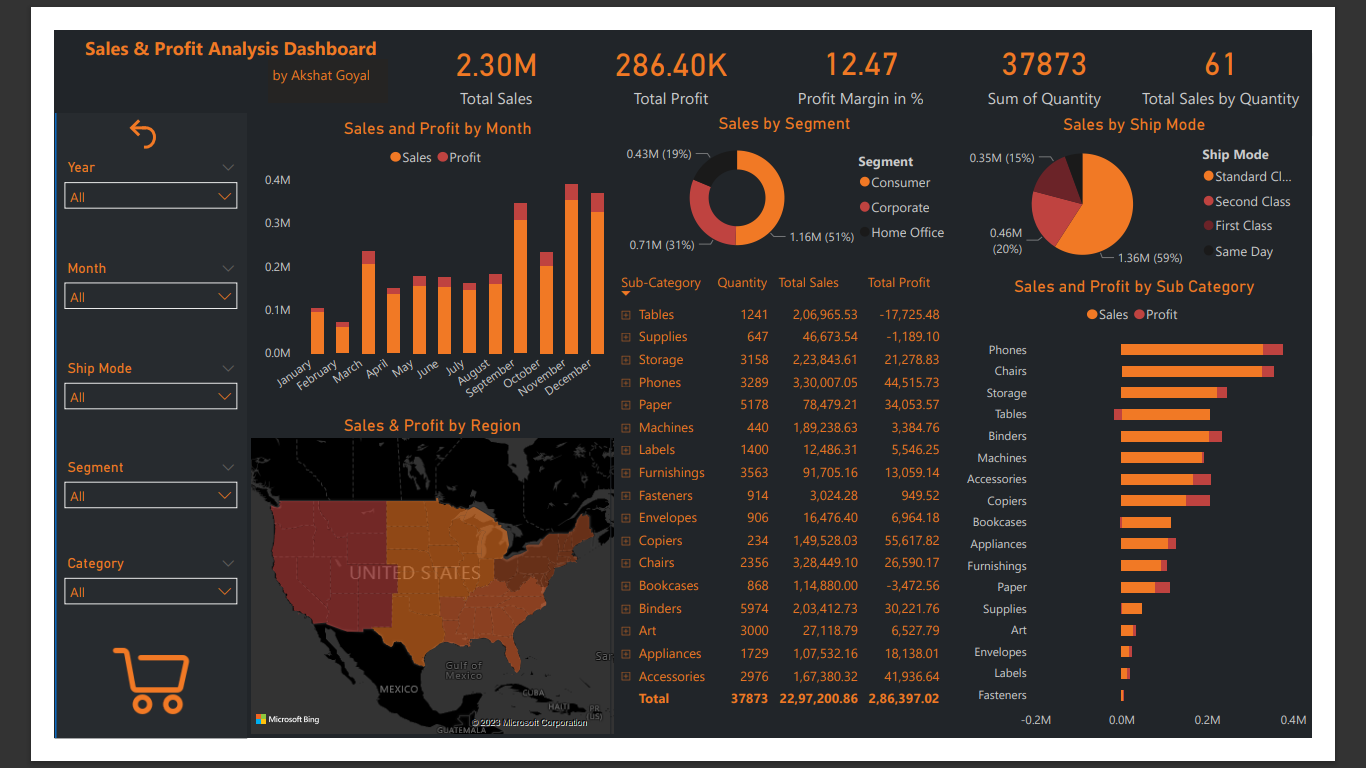

The page's visual inventory and layout, read from the dashboard file:
{"tool":"powerbi","page":{"name":"Akshat - Sales & Profit Analysis Dashboard","canvas":[1280,720],"ordinal":0},"visuals":[{"type":"shape","box":[0,0,196,720],"z":0},{"type":"slicer","fields":{"Values":["Orders (2).Order Date.Variation.Date Hierarchy.Year"]},"box":[0,125.9,196,70.9],"z":1000},{"type":"slicer","fields":{"Values":["Orders (2).Order Date.Variation.Date Hierarchy.Month"]},"box":[0,227.9,196,70],"z":2000},{"type":"slicer","fields":{"Values":["Orders (2).Ship Mode"]},"box":[0,330.7,196,70.9],"z":3000},{"type":"slicer","fields":{"Values":["Orders (2).Segment"]},"box":[0,430.9,196,70.9],"z":4000},{"type":"slicer","fields":{"Values":["Orders (2).Category"]},"box":[0,528.5,196,70.9],"z":5000},{"type":"columnChart","title":"Sales and Profit by Month","fields":{"Y":["Orders (2).Sales","Orders (2).Profit"],"Category":["Orders (2).Order Date.Variation.Date Hierarchy.Month"]},"box":[204.8,88.7,368.9,306.8],"z":6000},{"type":"textbox","box":[0,0,359.1,84.2],"z":7000},{"type":"card","fields":{"Values":["Orders (2).Sales"]},"box":[359.1,0,181.8,85.1],"z":8000},{"type":"card","fields":{"Values":["Orders (2).Profit"]},"box":[534.6,0,186.3,85.1],"z":9000},{"type":"card","fields":{"Values":["Orders (2).Profit%"]},"box":[720.9,0,197.7,84.2],"z":10000},{"type":"card","fields":{"Values":["Orders (2).Quantity"]},"box":[919.5,0,174.7,84.2],"z":11000},{"type":"card","fields":{"Values":["Orders (2).Total Sales by Quantity"]},"box":[1094.3,0,185.4,84.2],"z":12000},{"type":"filledMap","title":"Sales & Profit by Region","fields":{"Category":["Orders (2).State"],"Series":["Orders (2).Region"]},"box":[196.1,391.3,377.9,328.7],"z":13000},{"type":"pivotTable","title":"Product Details","fields":{"Rows":["Orders (2).Sub-Category","Orders (2).Product Name"],"Values":["Orders (2).Quantity","Orders (2).Sales","Orders (2).Profit"]},"box":[564.8,238.5,353.8,481.5],"z":14000},{"type":"donutChart","title":"Sales by Segment","fields":{"Y":["Orders (2).Sales"],"Category":["Orders (2).Segment"]},"box":[565.1,84.2,354.6,154],"z":15000},{"type":"pieChart","title":"Sales by Ship Mode","fields":{"Y":["Orders (2).Sales"],"Category":["Orders (2).Ship Mode"]},"box":[918.6,85.1,360.9,164],"z":16000},{"type":"barChart","title":"Sales and Profit by Sub Category","fields":{"Y":["Orders (2).Sales","Orders (2).Profit"],"Category":["Orders (2).Sub-Category"]},"box":[919.1,249.2,360.9,470],"z":17000},{"type":"textbox","box":[217.2,30.1,122.4,44.3],"z":18000},{"type":"actionButton","box":[0,85.1,180,39.9],"z":19000},{"type":"image","box":[0,613.6,196,95.8],"z":20001}]}

Visuals, with their boxes in screenshot pixels (x1, y1, x2, y2), scaled from the page's 1280x720 canvas onto the 1366x768 screenshot:
shape: bbox=(0, 0, 209, 767)
slicer - Orders (2).Order Date.Variation.Date Hierarchy.Year: bbox=(0, 134, 209, 210)
slicer - Orders (2).Order Date.Variation.Date Hierarchy.Month: bbox=(0, 243, 209, 318)
slicer - Orders (2).Ship Mode: bbox=(0, 353, 209, 428)
slicer - Orders (2).Segment: bbox=(0, 460, 209, 535)
slicer - Orders (2).Category: bbox=(0, 564, 209, 639)
"Sales and Profit by Month" columnChart: bbox=(219, 95, 612, 422)
textbox: bbox=(0, 0, 383, 90)
card - Orders (2).Sales: bbox=(383, 0, 577, 91)
card - Orders (2).Profit: bbox=(571, 0, 769, 91)
card - Orders (2).Profit%: bbox=(769, 0, 980, 90)
card - Orders (2).Quantity: bbox=(981, 0, 1168, 90)
card - Orders (2).Total Sales by Quantity: bbox=(1168, 0, 1365, 90)
"Sales & Profit by Region" filledMap: bbox=(209, 417, 613, 767)
"Product Details" pivotTable: bbox=(603, 254, 980, 767)
"Sales by Segment" donutChart: bbox=(603, 90, 981, 254)
"Sales by Ship Mode" pieChart: bbox=(980, 91, 1365, 266)
"Sales and Profit by Sub Category" barChart: bbox=(981, 266, 1365, 767)
textbox: bbox=(232, 32, 362, 79)
actionButton: bbox=(0, 91, 192, 133)
image: bbox=(0, 655, 209, 757)
